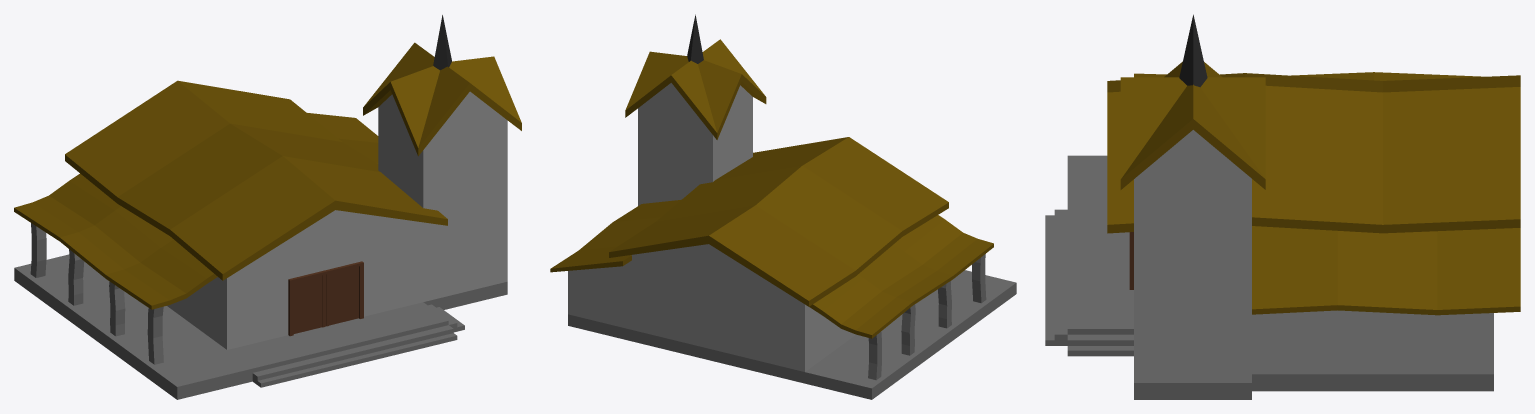
File: Prefeitura.fbx
The picture shows the model from 3 angles, left to right: view 1: azimuth 30°, elevation 25°; view 2: azimuth 150°, elevation 25°; view 3: azimuth 270°, elevation 25°; orthographic projection. The views are drawn at different scales.
Visible parts, largest first — view 1: Prefeitura, Porta; view 2: Prefeitura; view 3: Prefeitura.
Boxes of the visible parts, x1,y1,x2,y2 form: Prefeitura: [14, 15, 521, 399]; Porta: [288, 261, 363, 336]; Prefeitura: [550, 14, 1016, 399]; Prefeitura: [1045, 14, 1520, 399].
Size of the model in its own units: 1781 by 1278 by 1534.
